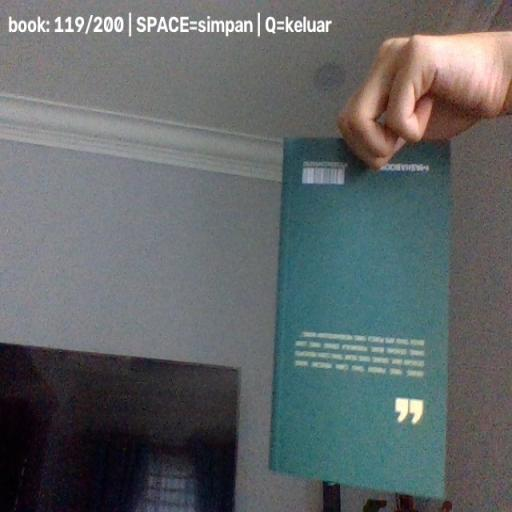Book: (270, 137, 451, 500)
